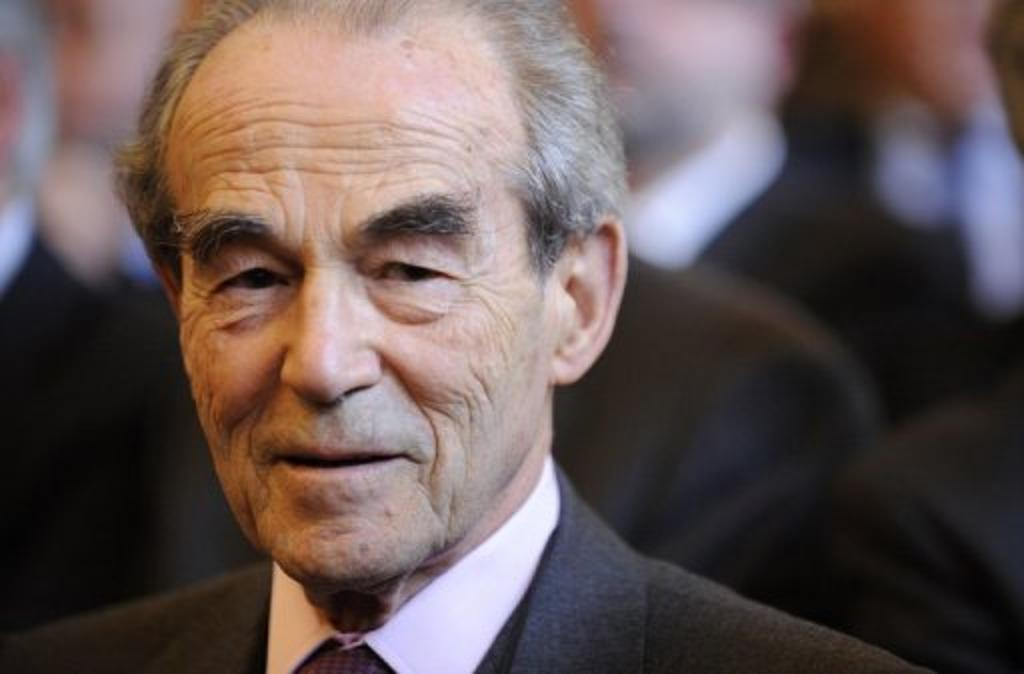face: (170, 64, 534, 578)
